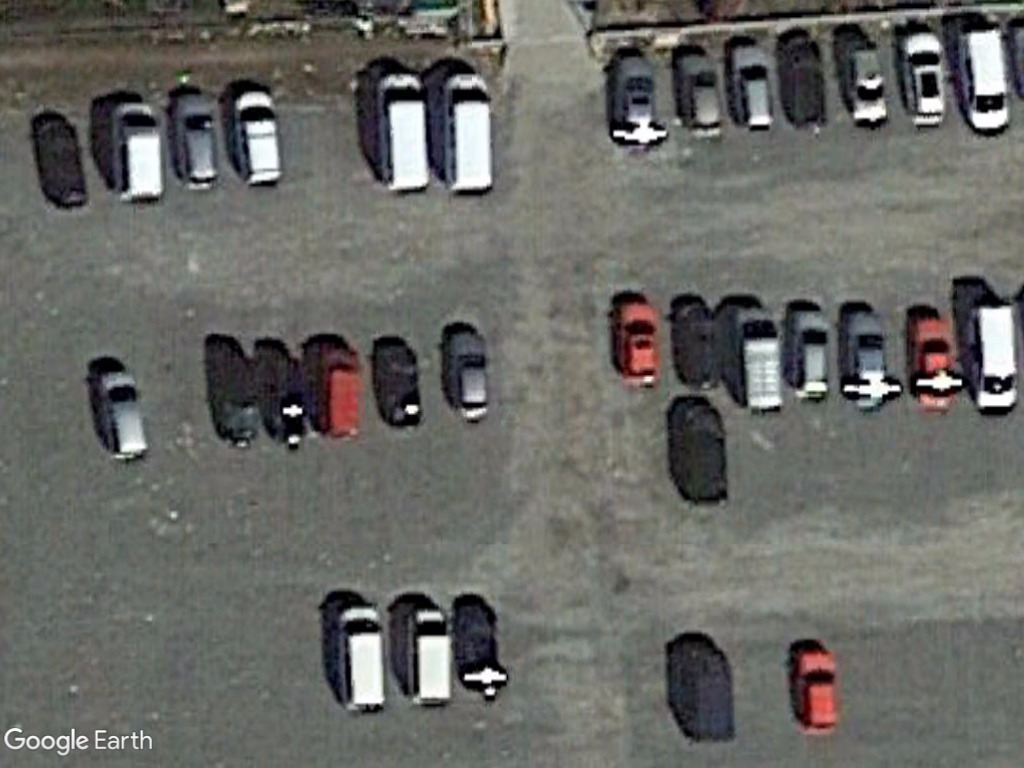car: (171, 90, 225, 193), (787, 644, 843, 739), (726, 39, 779, 136), (447, 326, 495, 426), (786, 304, 833, 403), (615, 297, 661, 390)
van: (372, 68, 436, 197), (441, 69, 497, 197), (954, 23, 1016, 137), (966, 298, 1022, 417), (335, 600, 391, 718), (108, 99, 169, 206), (93, 366, 155, 466), (734, 309, 788, 416), (229, 87, 287, 186), (406, 605, 455, 710)
